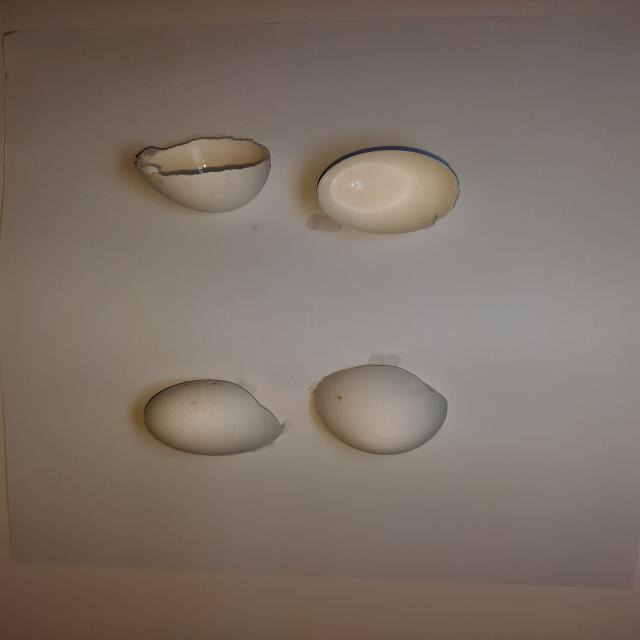egg shell: (303, 358, 457, 462), (310, 144, 470, 240), (129, 131, 283, 217), (136, 372, 290, 458)
